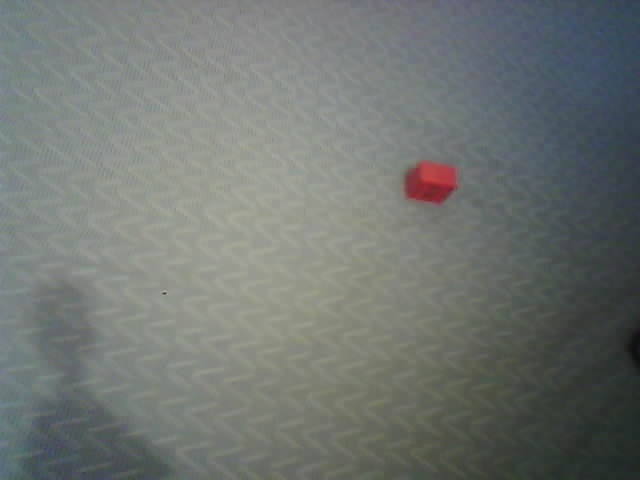lego: (403, 160, 457, 205)
